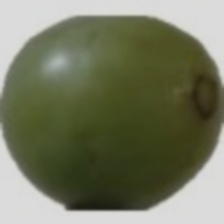grapes: (34, 24, 188, 164)
